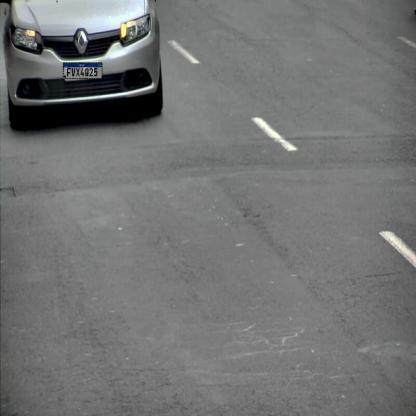PlacaM: (63, 62, 102, 79)
